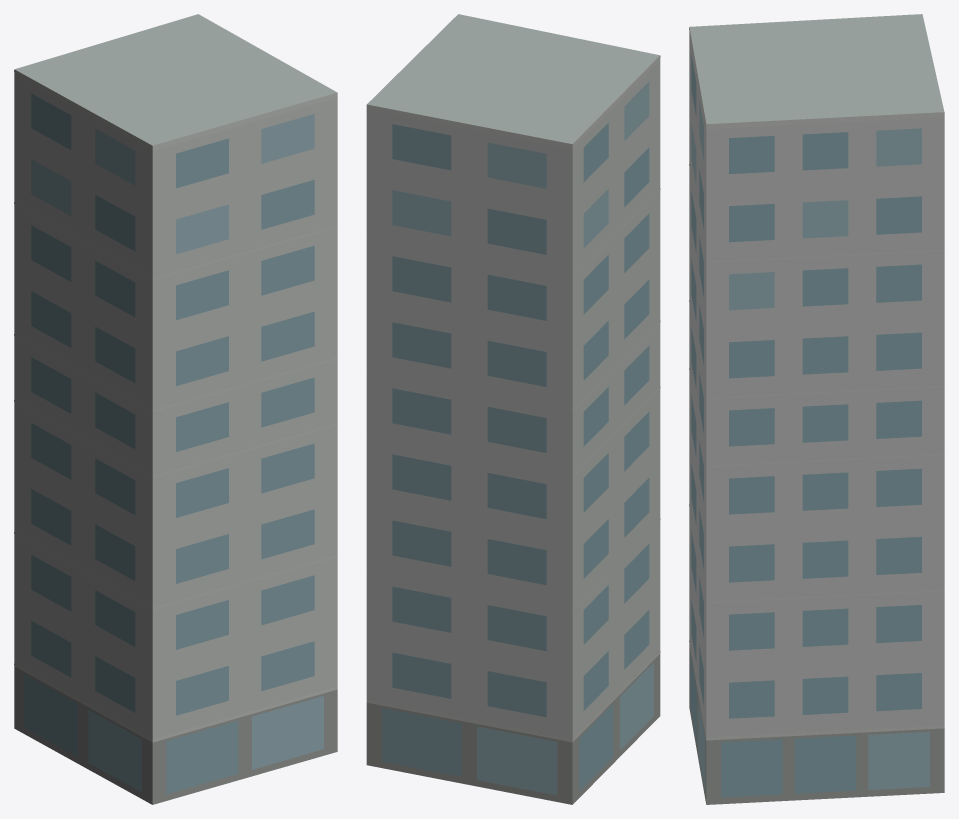
File: survey-upis-33046827.glb
3 views of the same model, side by side, from view 1: azimuth 30°, elevation 25°; view 2: azimuth 150°, elevation 25°; view 3: azimuth 270°, elevation 25° (orthographic). The views are drawn at different scales.
Visible parts, largest first — view 1: survey-upis-33046827.tmp; view 2: survey-upis-33046827.tmp; view 3: survey-upis-33046827.tmp.
Part boxes in pixels (x1=…): survey-upis-33046827.tmp: x1=14, y1=14, x2=337, y2=804; survey-upis-33046827.tmp: x1=366, y1=14, x2=660, y2=804; survey-upis-33046827.tmp: x1=689, y1=14, x2=944, y2=804.
Size of the model in its own units: 10.61 by 30.5 by 10.38.
